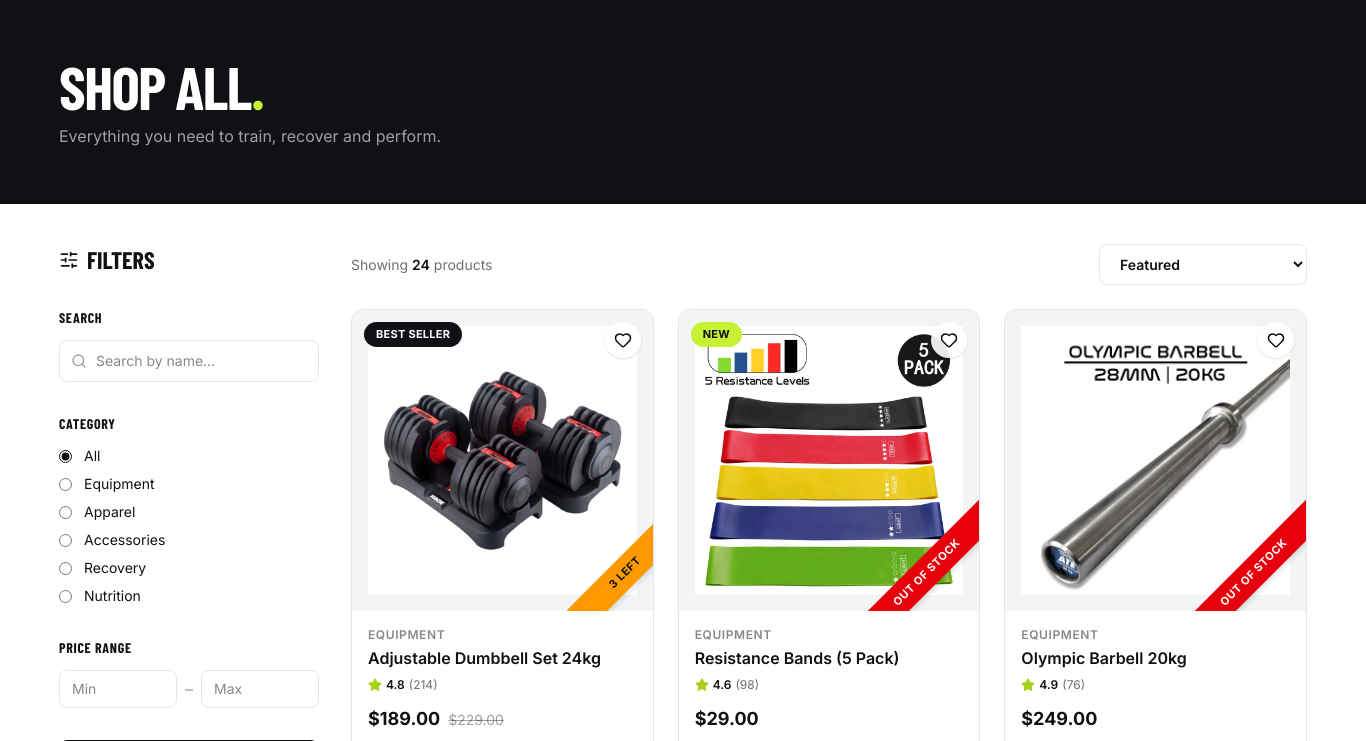
it: Product filtering › shows a message when nothing matches
Type "zzzzz" into the search field named "Search products" at (189, 361), box [59,340,319,382]
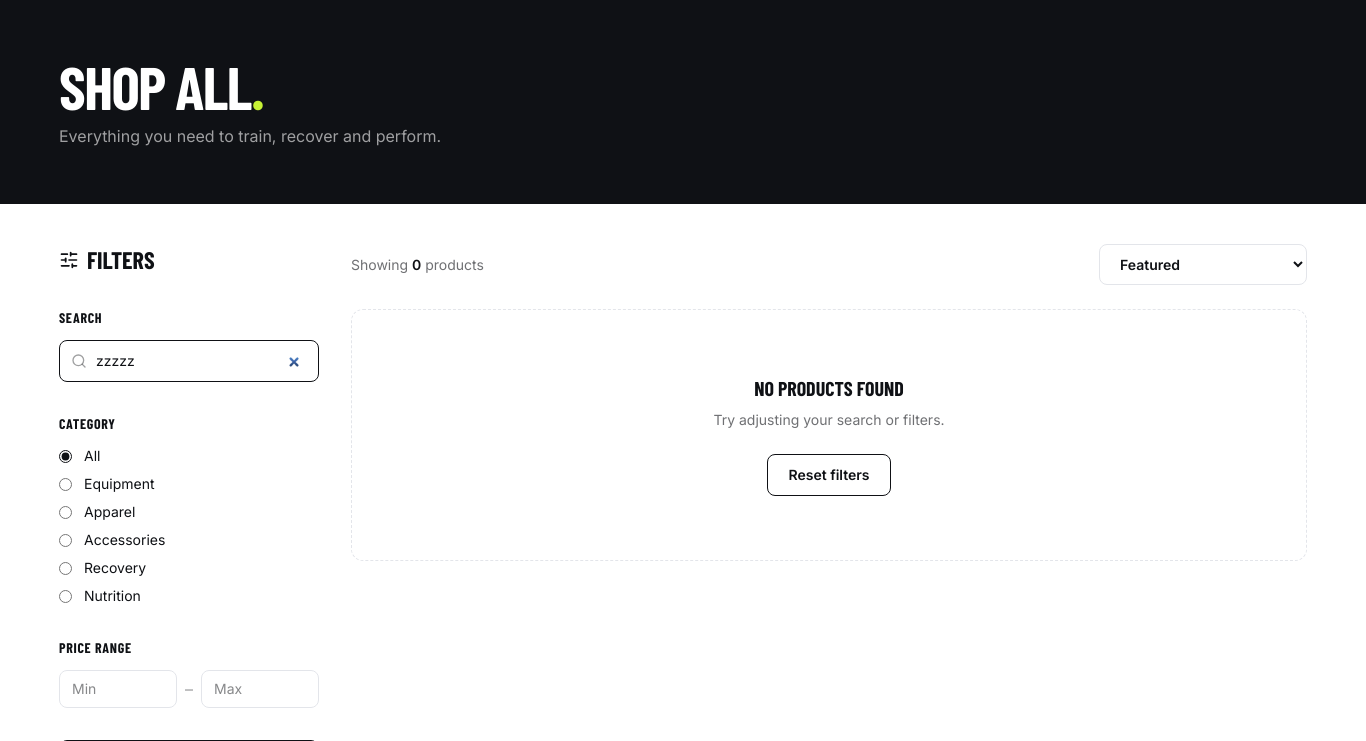
Expected: the text "No products found" is shown, [754,376,904,400]
